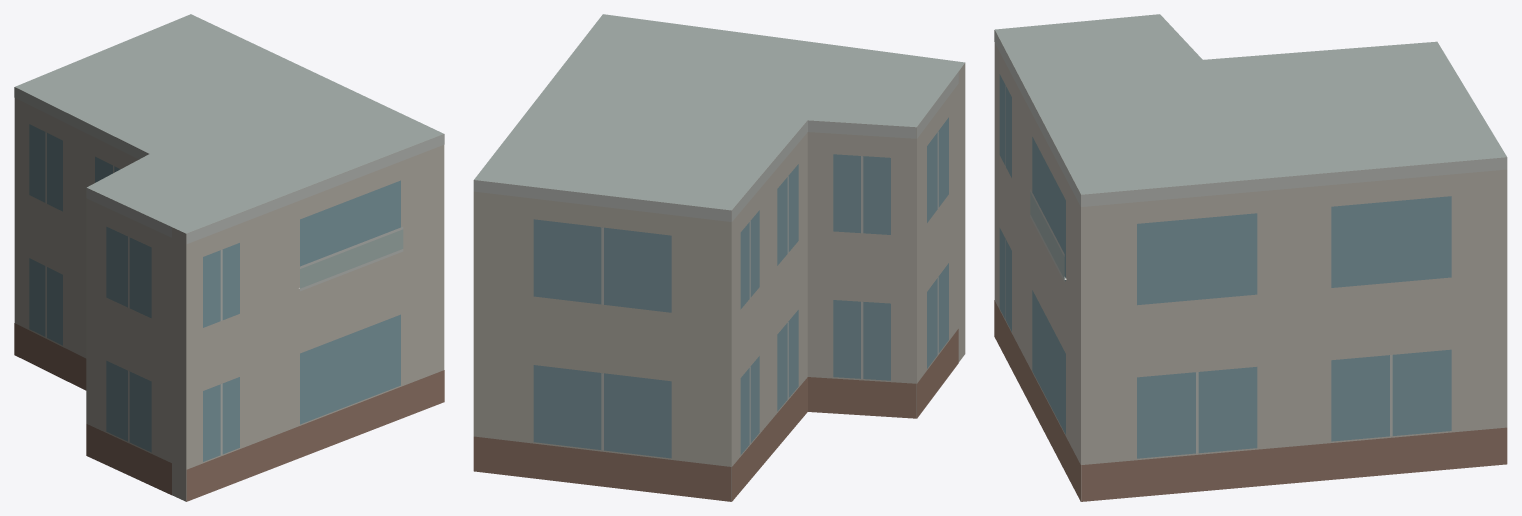
File: survey-upis-32564165.glb
The picture shows the model from 3 angles, left to right: view 1: azimuth 30°, elevation 25°; view 2: azimuth 150°, elevation 25°; view 3: azimuth 270°, elevation 25°; orthographic projection. The views are drawn at different scales.
Parts seen in each view (by area): view 1: survey-upis-32564165.tmp; view 2: survey-upis-32564165.tmp; view 3: survey-upis-32564165.tmp.
Boxes of the visible parts, <box> form: survey-upis-32564165.tmp: <box>14,14,444,501</box>; survey-upis-32564165.tmp: <box>473,14,965,501</box>; survey-upis-32564165.tmp: <box>994,14,1507,501</box>.
Size of the model in its own units: 7.71 by 6.1 by 9.24.
